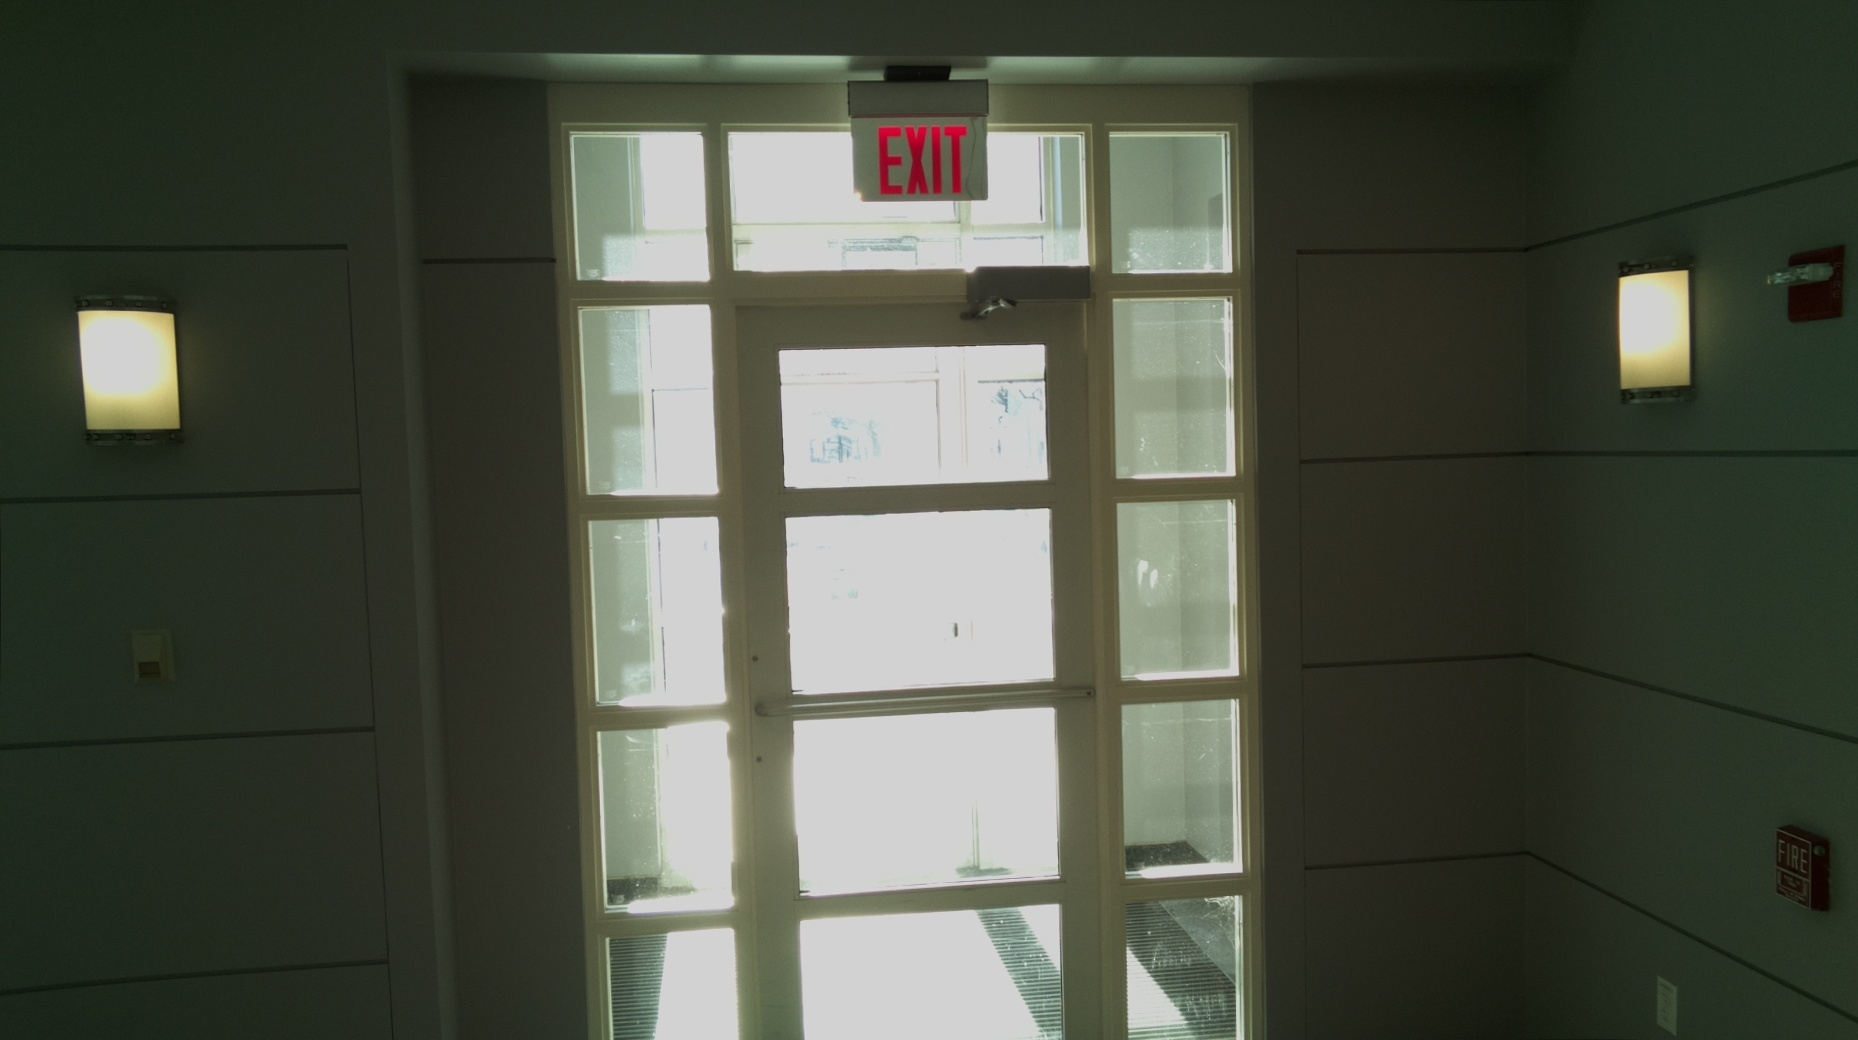exit sign: (846, 108, 998, 208)
